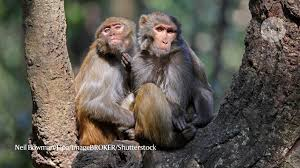monkey: (135, 3, 246, 165), (57, 9, 165, 149)
